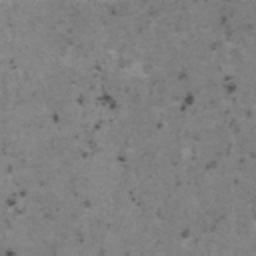Oxide scale of temperature system: (155, 14, 256, 187), (51, 64, 138, 207), (4, 164, 28, 207), (108, 6, 118, 18), (177, 228, 189, 238), (3, 248, 15, 256), (8, 56, 15, 65)
